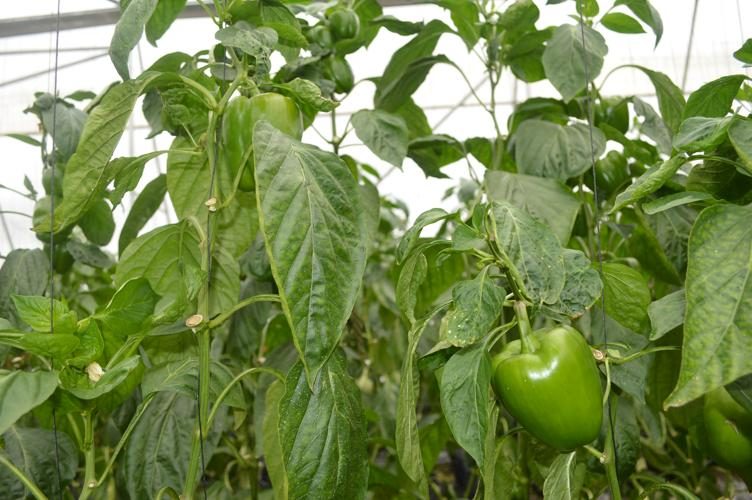BellPepper: (479, 318, 620, 454), (215, 88, 305, 198)
